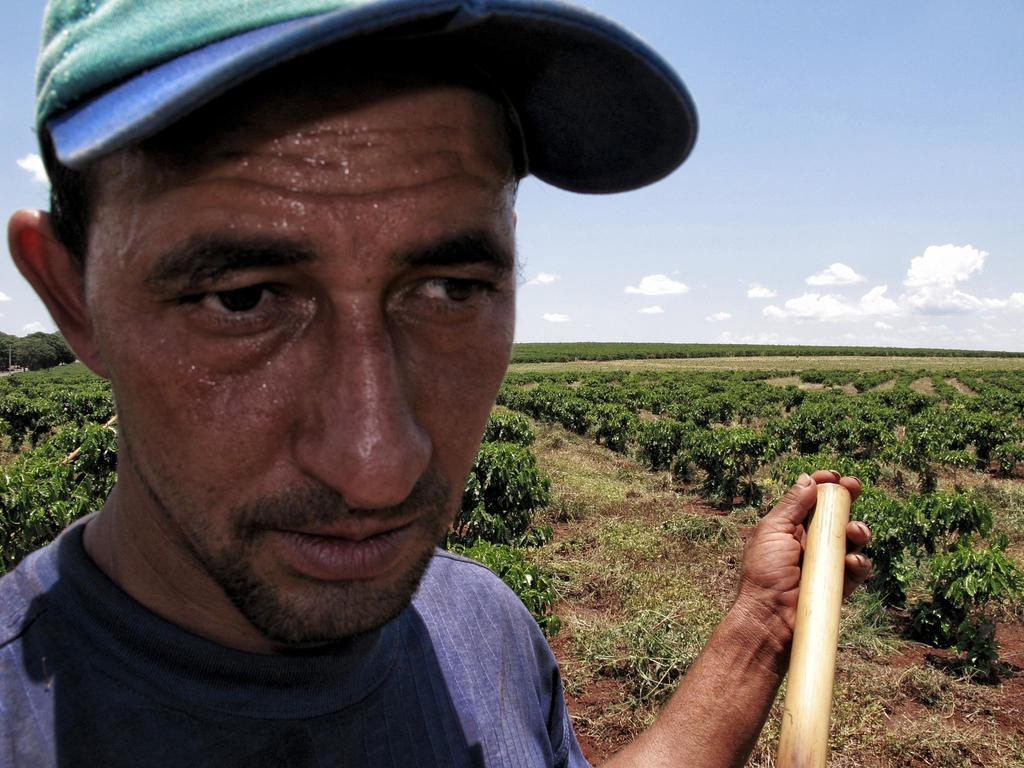Hat: (32, 0, 700, 193)
